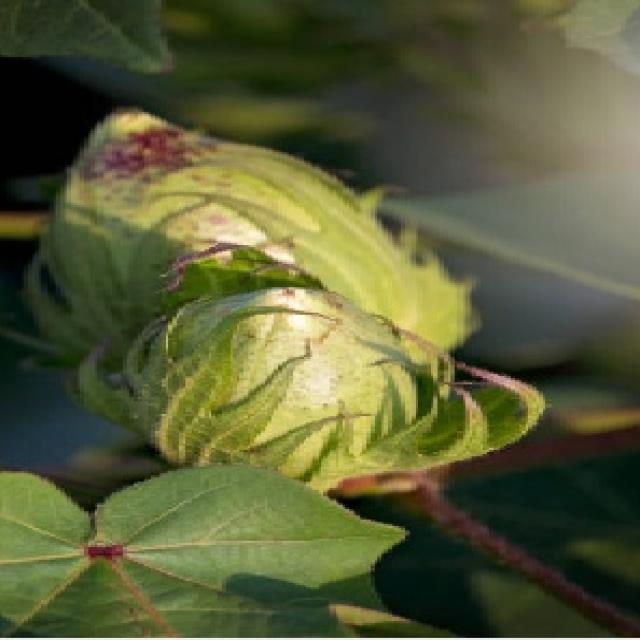Early Boll: (44, 113, 478, 325), (139, 282, 468, 486)
